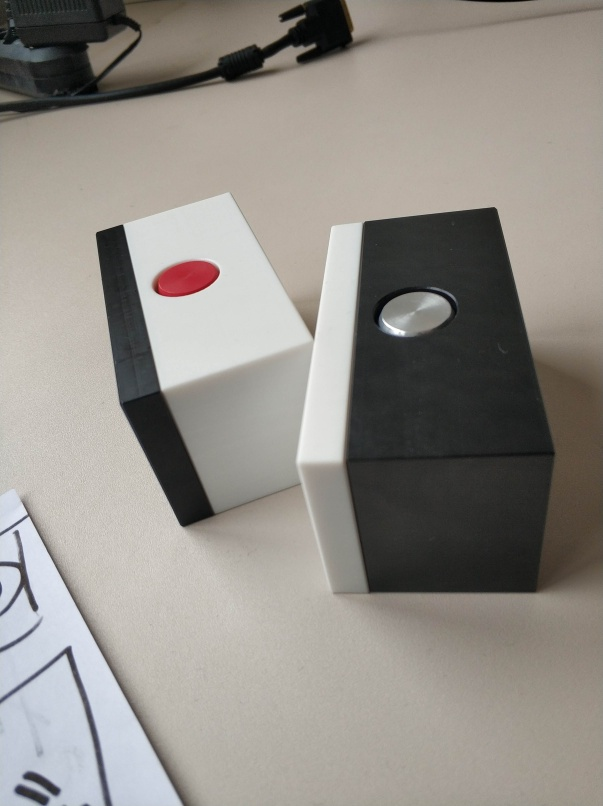black+white+red: (91, 189, 313, 528)
white+black+silver: (288, 204, 557, 600)
